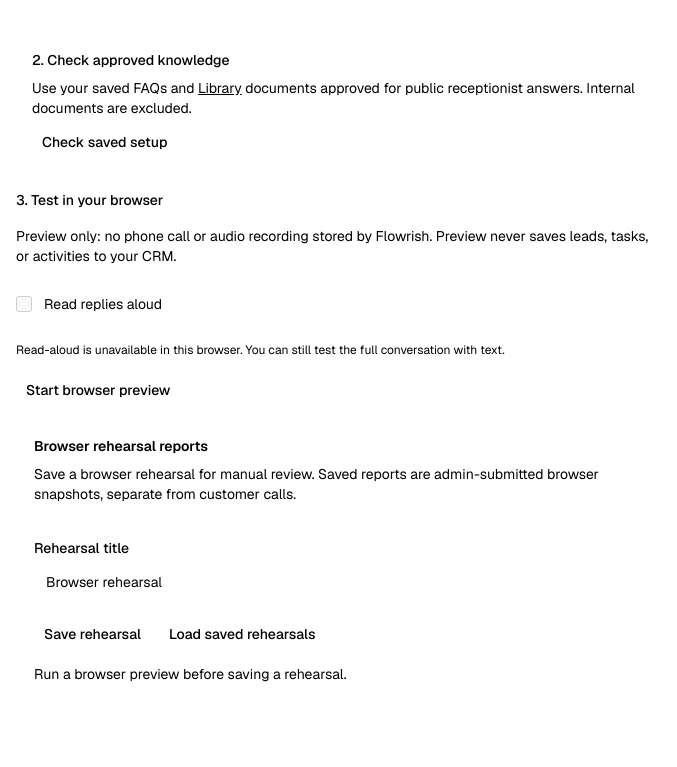
receptionist onboarding and browser preview › ignores a late preview reply after end even when the network ignores abort
(page scrolled)
Click the button "Start browser preview" at [98, 390], box [16,374,180,406]
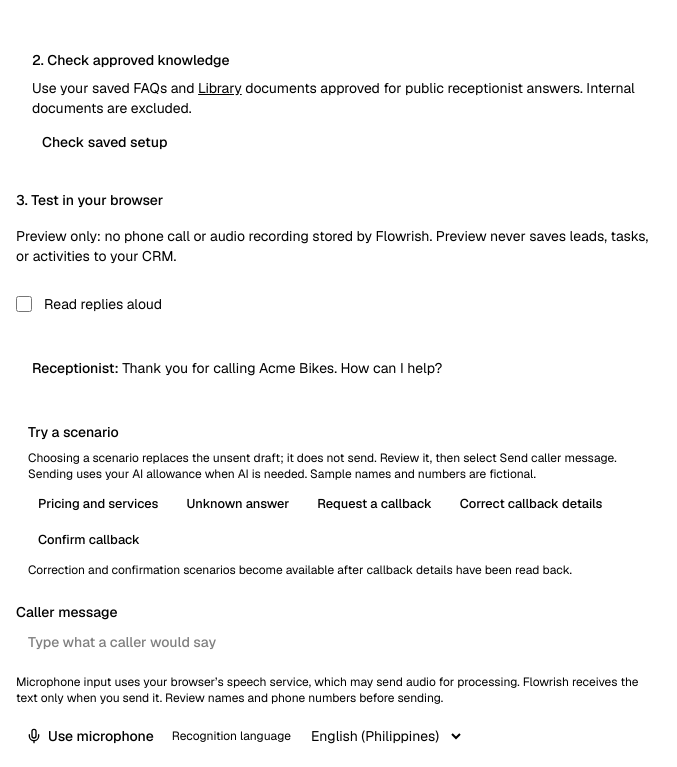
Now the text "Thank you for calling Acme Bikes. How can I help?" is shown, box [122,359,442,377]
Click the checkbox labelled "Read replies aloud" at [24, 304], box [16,296,32,312]
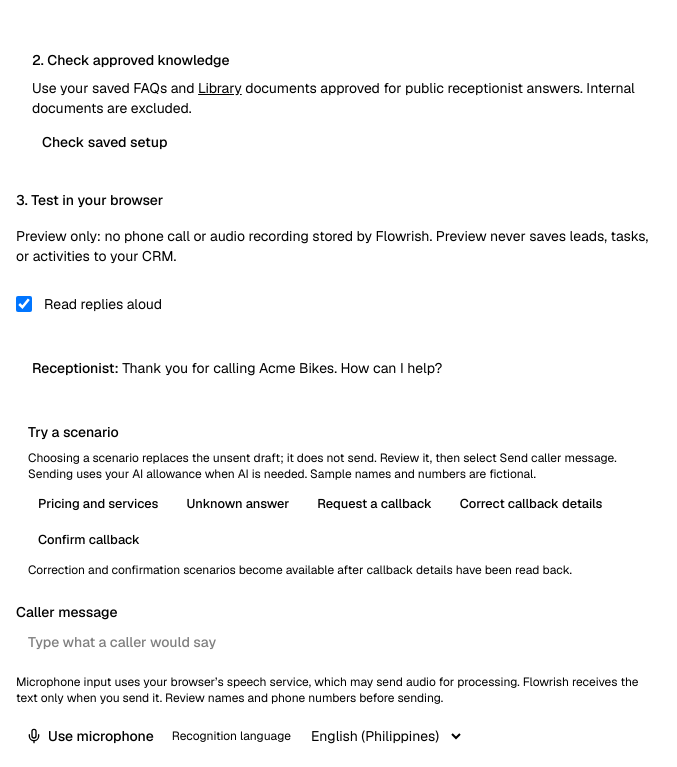
Type "Hello" into the field labelled "Caller message" at [338, 642], box [16,622,660,662]
(page scrolled)
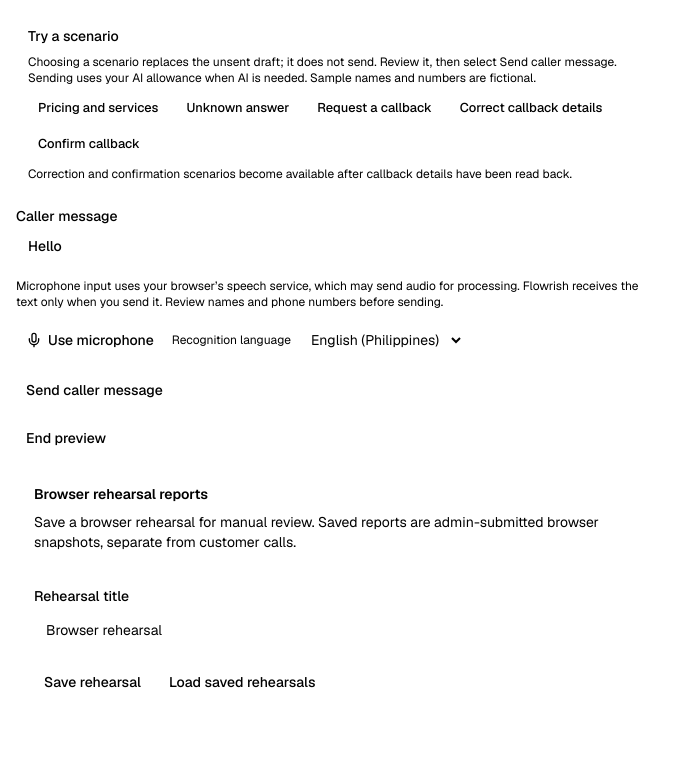
Click the button "Send caller message" at [94, 390], box [16,374,173,406]
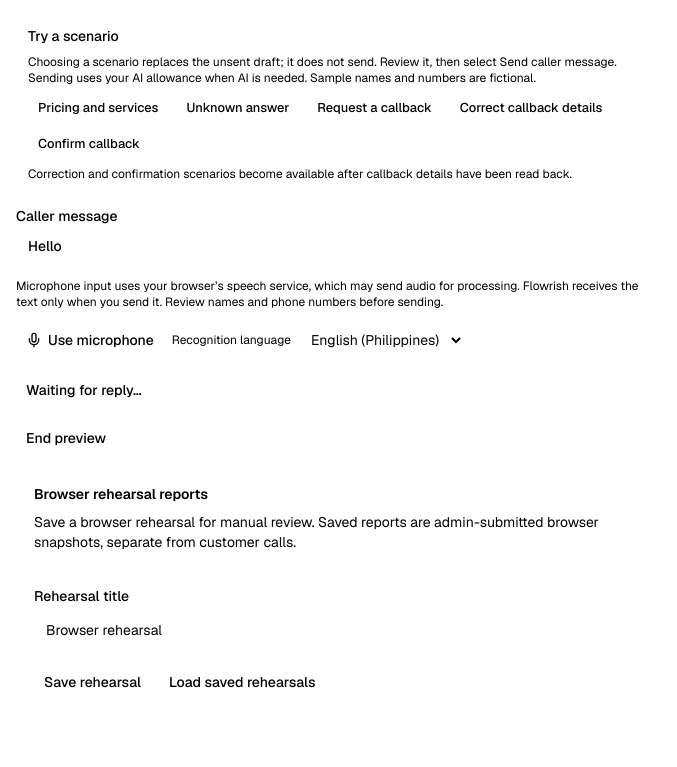
Now the button "Waiting for reply…" is shown, box [16,374,152,406]
Click the button "End preview" at [66, 438], box [16,422,116,454]
(page scrolled)
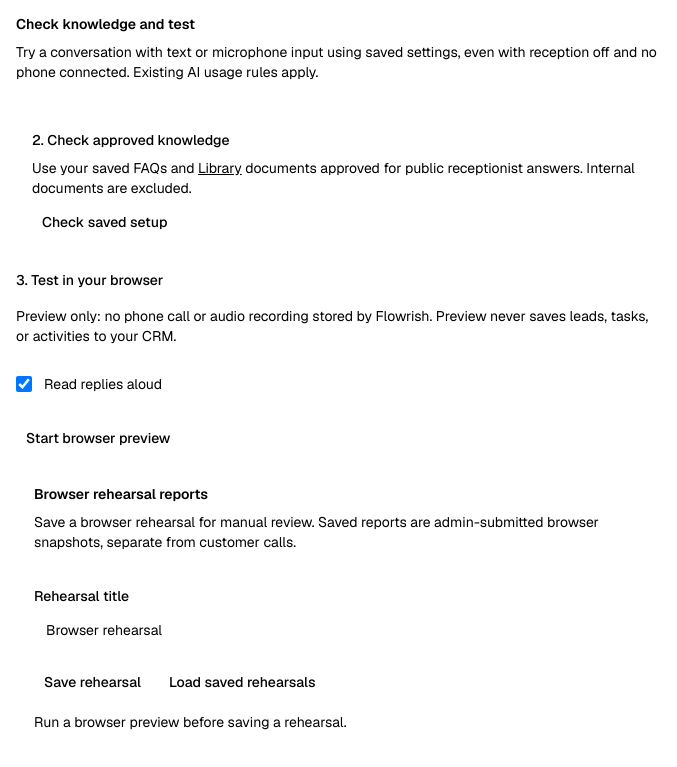
Now the button "Start browser preview" is enabled, box [16,422,180,454]
